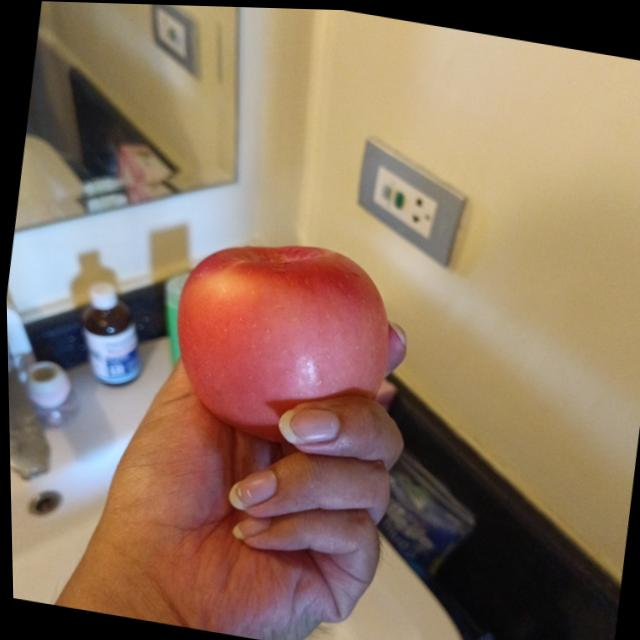apple: (159, 225, 402, 457)
